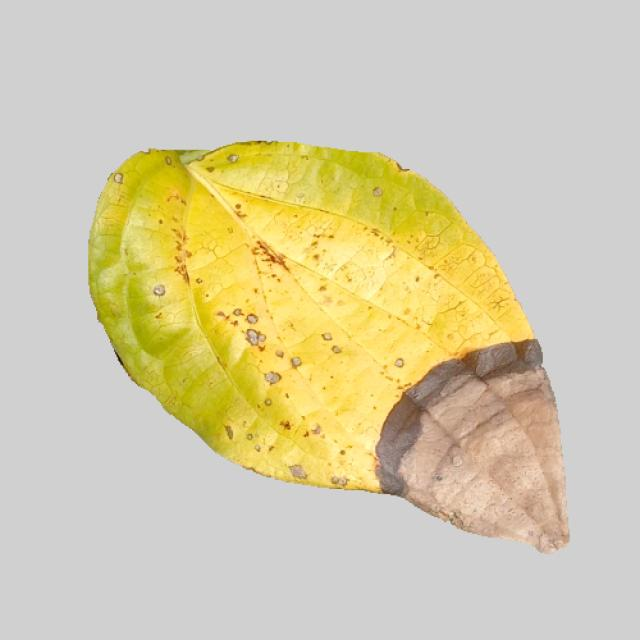leaf-blight: (69, 152, 566, 562)
